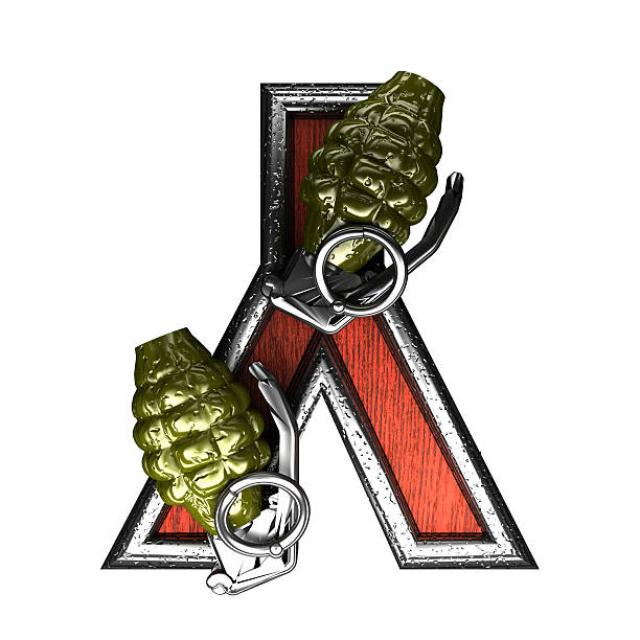grenade: (264, 68, 470, 335), (126, 324, 303, 602)
